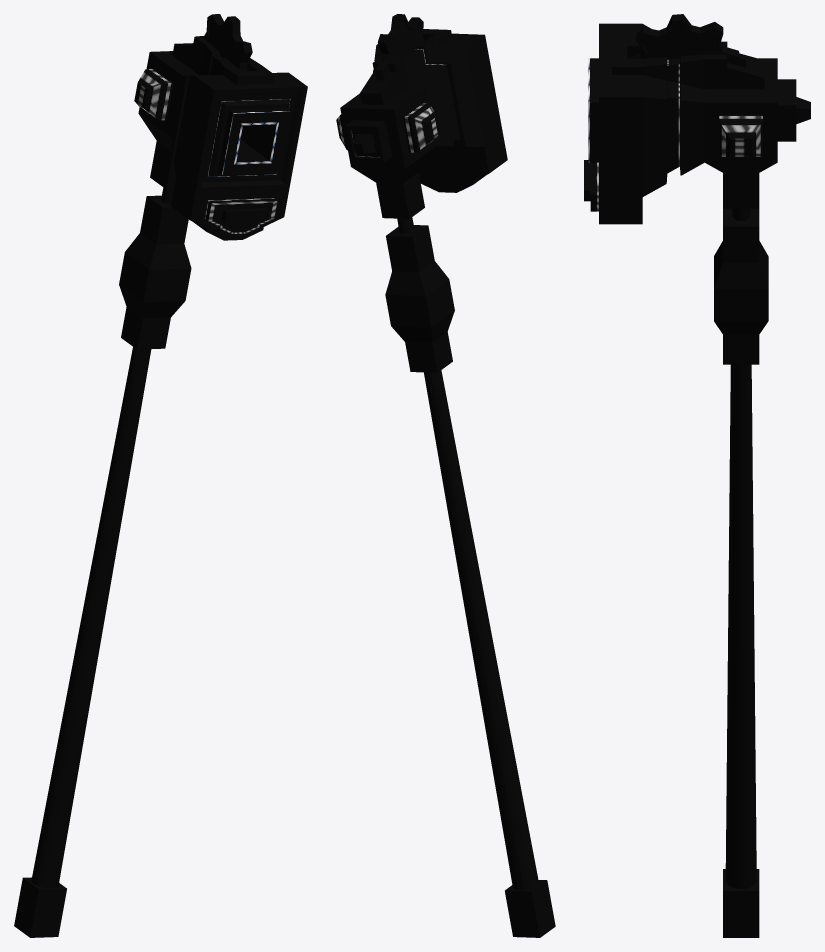
Rendered from Dispenser_2_0.fbx.
The picture shows the model from 3 angles, left to right: view 1: azimuth 30°, elevation 25°; view 2: azimuth 150°, elevation 25°; view 3: azimuth 270°, elevation 25°; orthographic projection. The views are drawn at different scales.
Parts seen in each view (by area): view 1: Dispenser, Dispenser_Prop_0, Dispenser_Prop_1, Gear; view 2: Dispenser, Dispenser_Prop_0, Dispenser_Prop_1, Gear; view 3: Dispenser, Dispenser_Prop_0, Dispenser_Prop_1, Gear.
Boxes of the visible parts, <box> form: Dispenser: <box>134,36,307,240</box>; Dispenser_Prop_0: <box>14,141,175,937</box>; Dispenser_Prop_1: <box>119,195,191,349</box>; Gear: <box>196,14,252,71</box>; Dispenser: <box>336,29,507,192</box>; Dispenser_Prop_0: <box>376,172,555,937</box>; Dispenser_Prop_1: <box>385,225,454,372</box>; Gear: <box>375,14,424,81</box>; Dispenser: <box>584,23,810,224</box>; Dispenser_Prop_0: <box>723,173,759,937</box>; Dispenser_Prop_1: <box>714,208,768,364</box>; Gear: <box>629,14,739,65</box>.
Bounding box in the file's own units: 2.33 × 8.95 × 1.83.
Materials: 1 (1 with a texture image).
